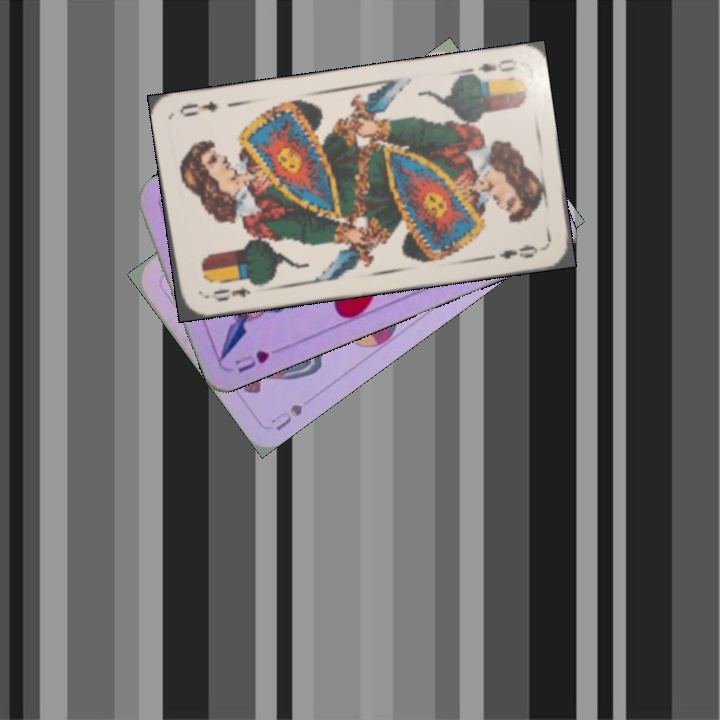EO: (462, 55, 520, 84), (201, 282, 253, 304)
HU: (230, 346, 273, 375)
SU: (267, 399, 305, 434)
